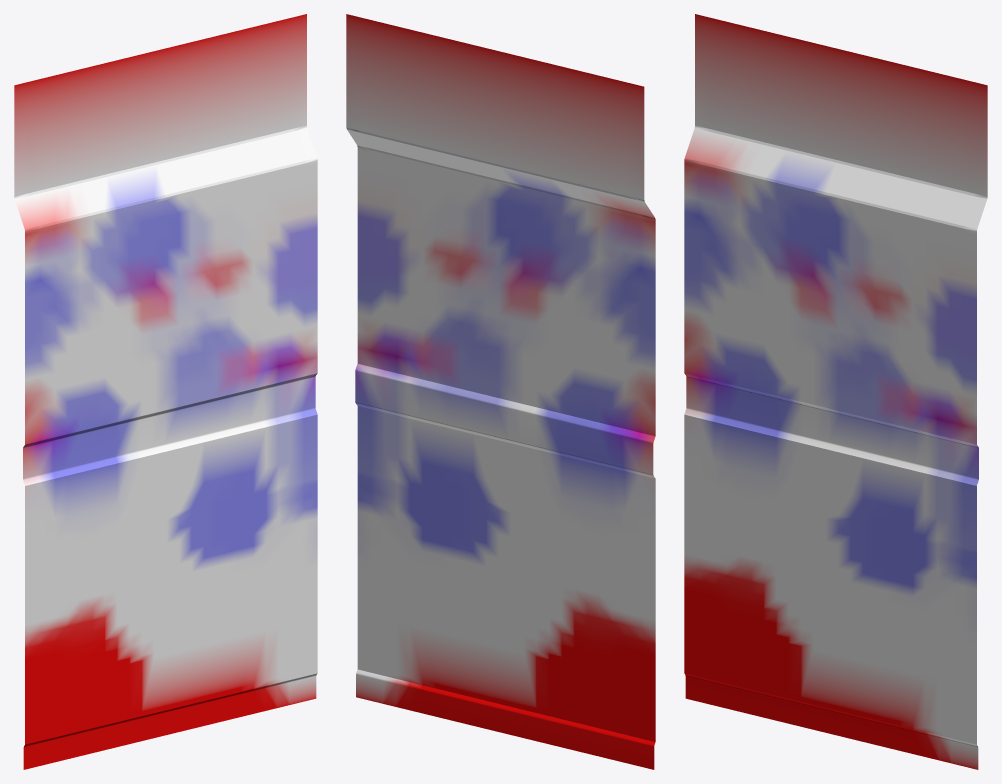
3 views of the same model, side by side, from view 1: azimuth 30°, elevation 25°; view 2: azimuth 150°, elevation 25°; view 3: azimuth 330°, elevation 25° (orthographic).
Visible parts, largest first — view 1: SM_Platform_Wall_Large_03_LOD0; view 2: SM_Platform_Wall_Large_03_LOD0; view 3: SM_Platform_Wall_Large_03_LOD0.
Part boxes in pixels (x1,y1,x2,y2): SM_Platform_Wall_Large_03_LOD0: (14, 14, 317, 769); SM_Platform_Wall_Large_03_LOD0: (346, 14, 655, 769); SM_Platform_Wall_Large_03_LOD0: (684, 14, 987, 769).
Bounding box in the file's own units: 500 × 32.32 × 1106.
